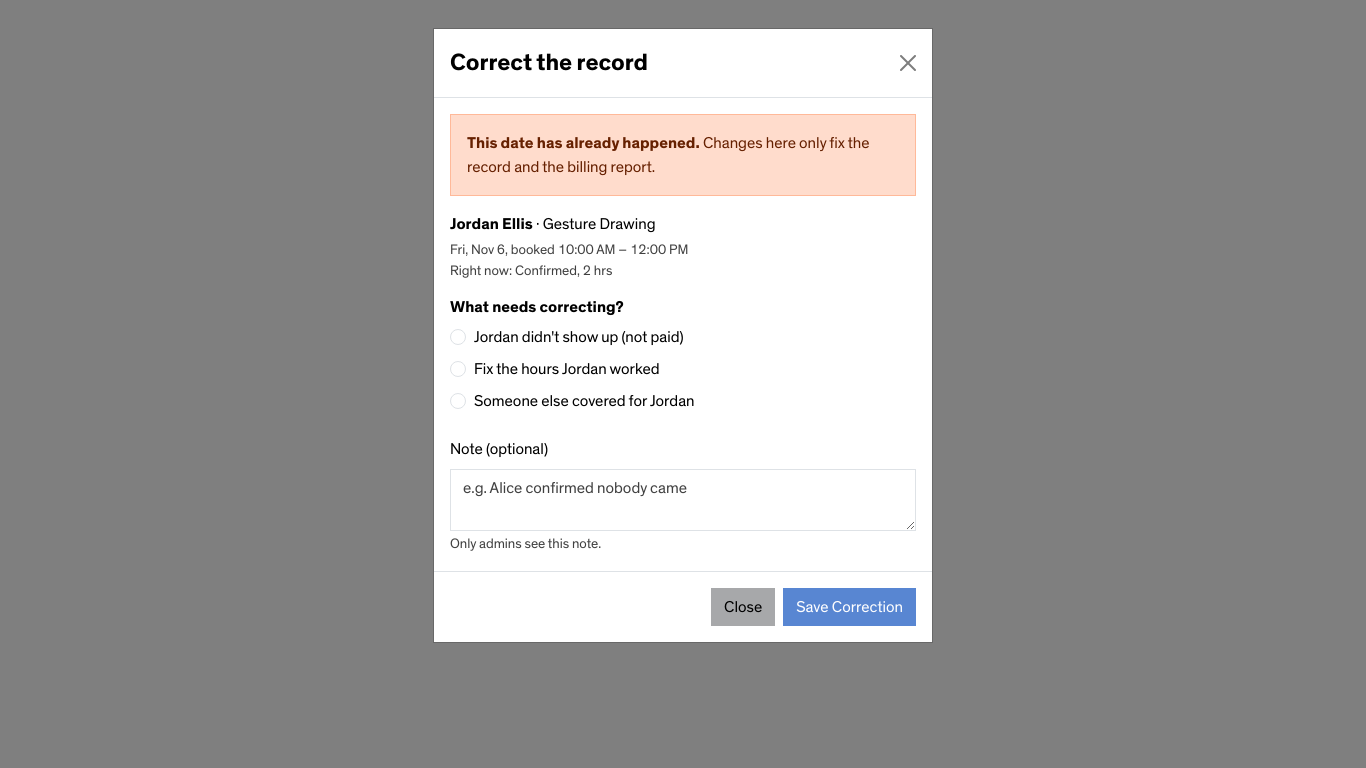
Scenario: CorrectRecordModal › explains why the server wouldn't save the correction, and stays open
Click the radio button labelled "Jordan didn't show up (not paid)" at (458, 337), box [450, 329, 466, 345]
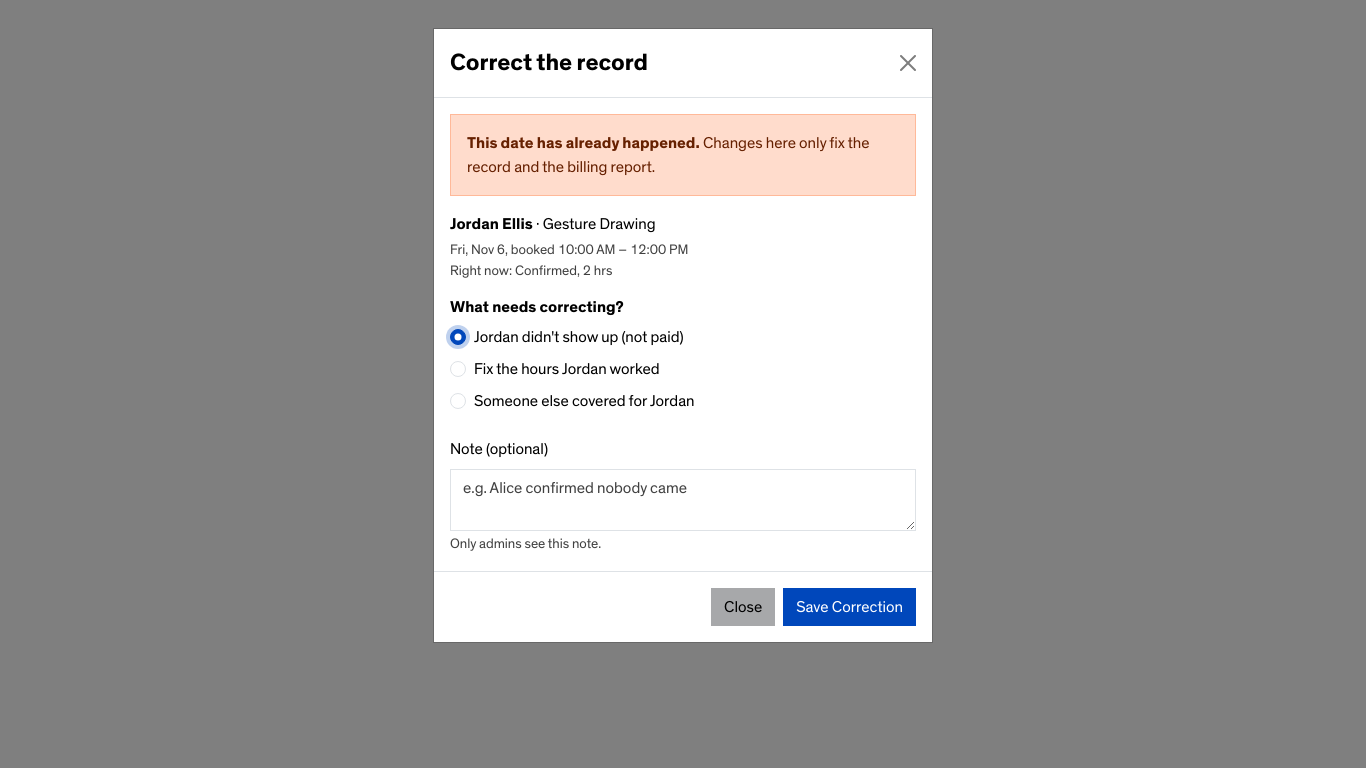
Click the button "Save Correction" at (850, 607), box [783, 588, 916, 626]
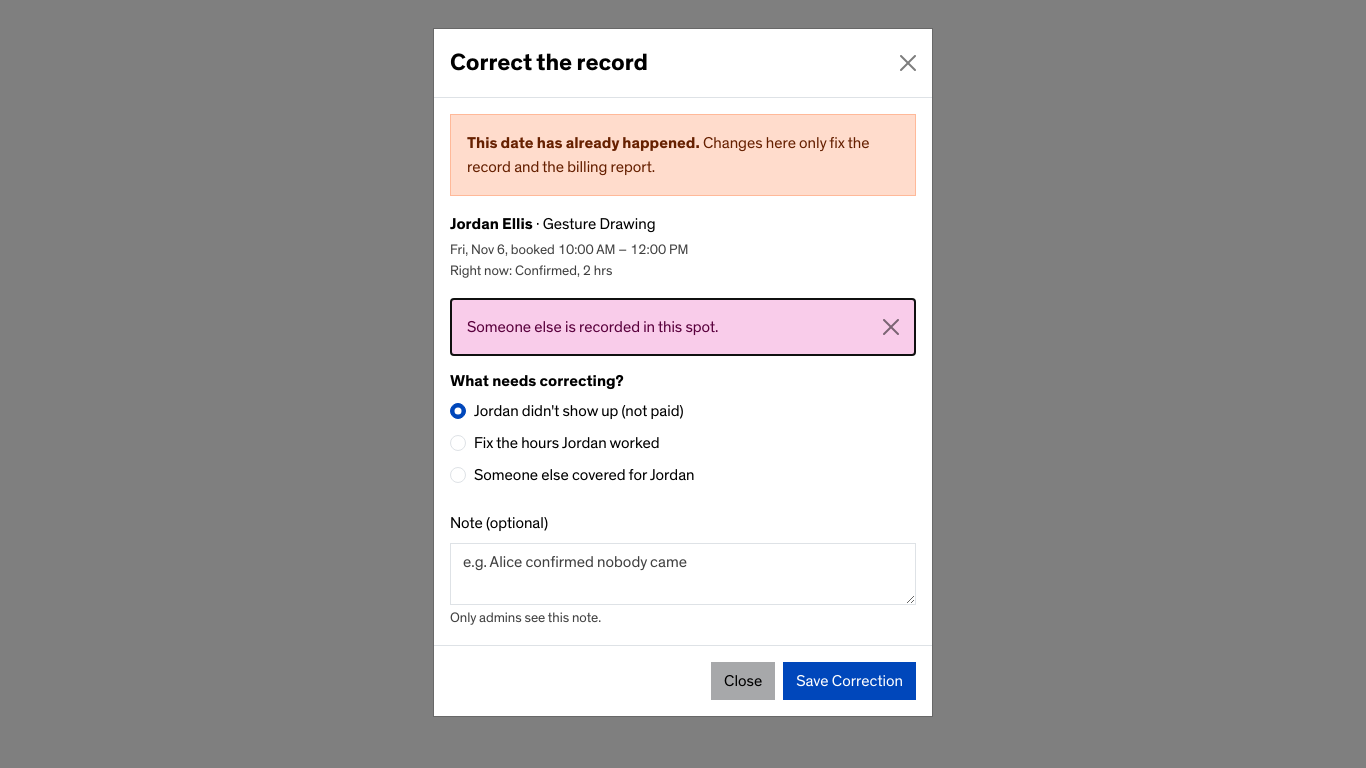
Now the text "Someone else is recorded in this spot." is shown, box [450, 298, 916, 356]
